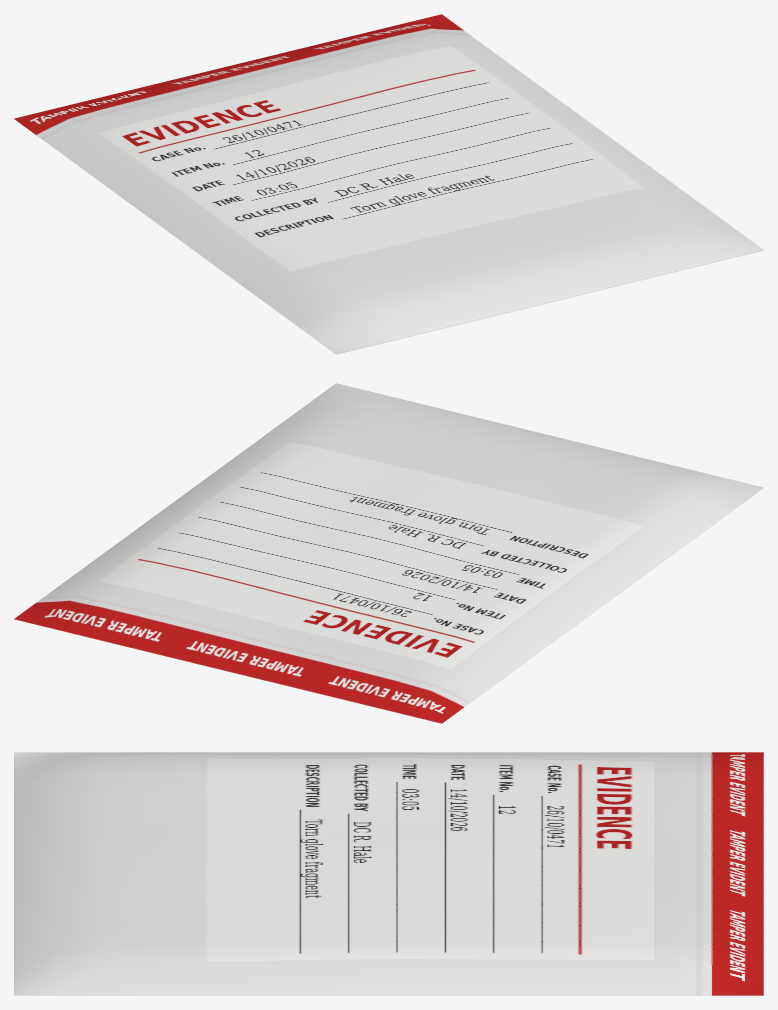
Rendered from EvidenceBagPlastic.obj.
3 views of the same model, one above another, from view 1: azimuth 30°, elevation 25°; view 2: azimuth 150°, elevation 25°; view 3: azimuth 270°, elevation 25° (orthographic). The views are drawn at different scales.
Parts seen in each view (by area): view 1: BagPolythene; view 2: BagPolythene; view 3: BagPolythene.
Boxes of the visible parts, box(x1,y1,x2,y2) form: BagPolythene: box(14, 14, 763, 354); BagPolythene: box(14, 383, 763, 723); BagPolythene: box(14, 752, 763, 995).
Size of the model in its own units: 0.23 by 0.008 by 0.3.
Materials: 1 (1 with a texture image).
